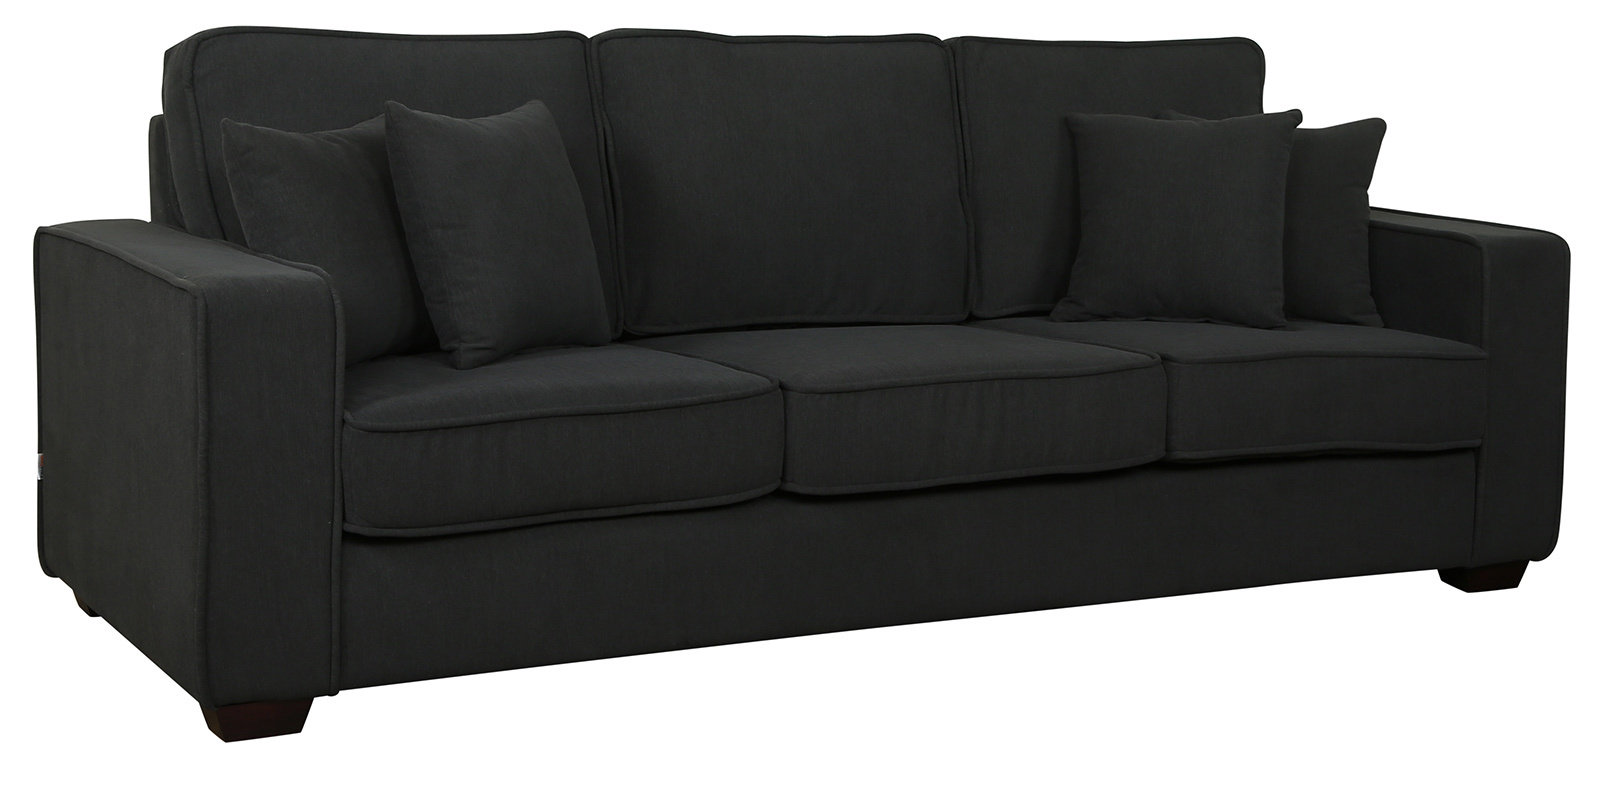Hugo Three Seater Sofa in Charcoal Grey Colour by CasaCraft: (29, 5, 1600, 745)
